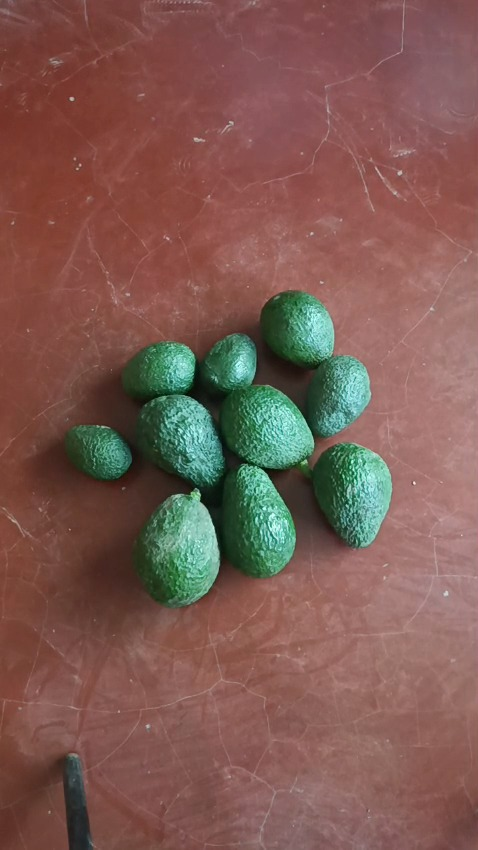Primera: (131, 495, 221, 606), (134, 394, 227, 490), (219, 465, 296, 577), (310, 443, 393, 546), (220, 384, 316, 469)
Segunda: (259, 289, 335, 366), (304, 354, 372, 438)
Tercera: (120, 342, 196, 402), (199, 332, 259, 397), (64, 424, 132, 481)
